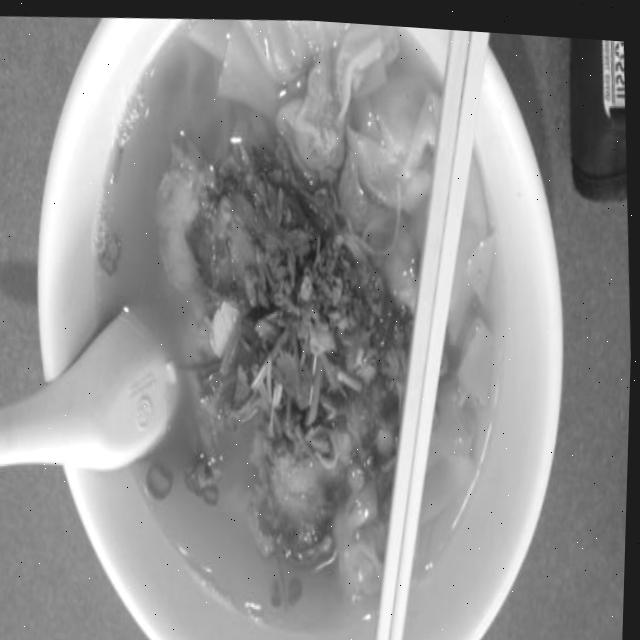汤锅炖物: (26, 4, 558, 640)
